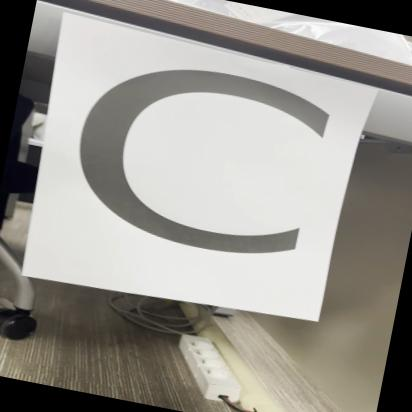seat: (24, 17, 372, 322)
